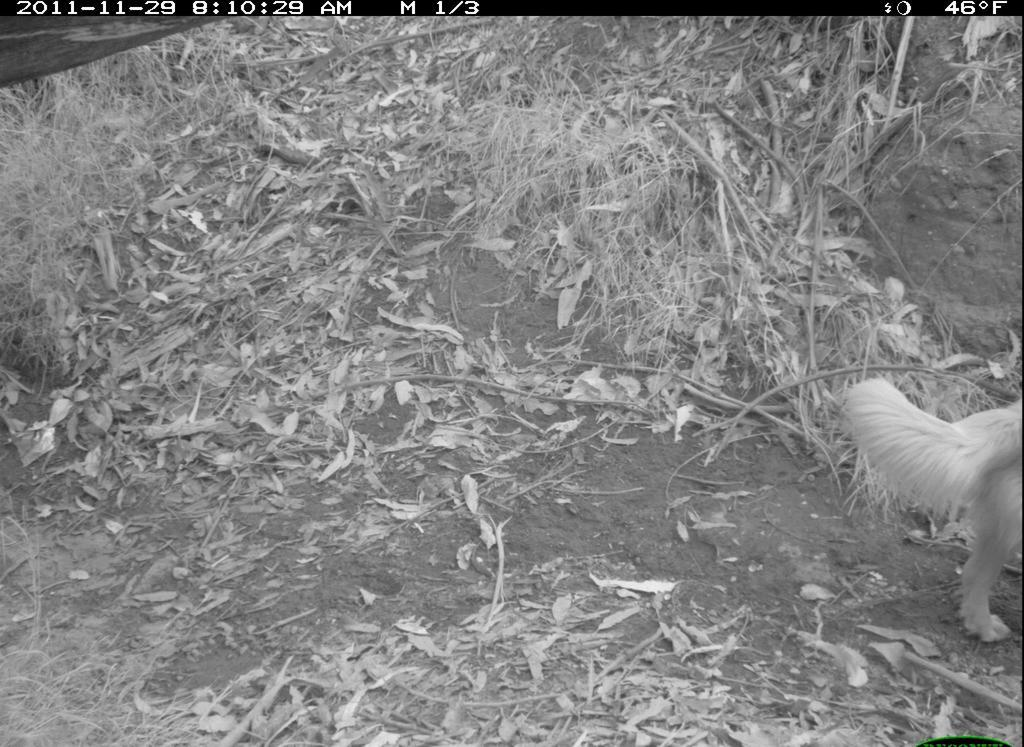dog: (831, 315, 1023, 643)
